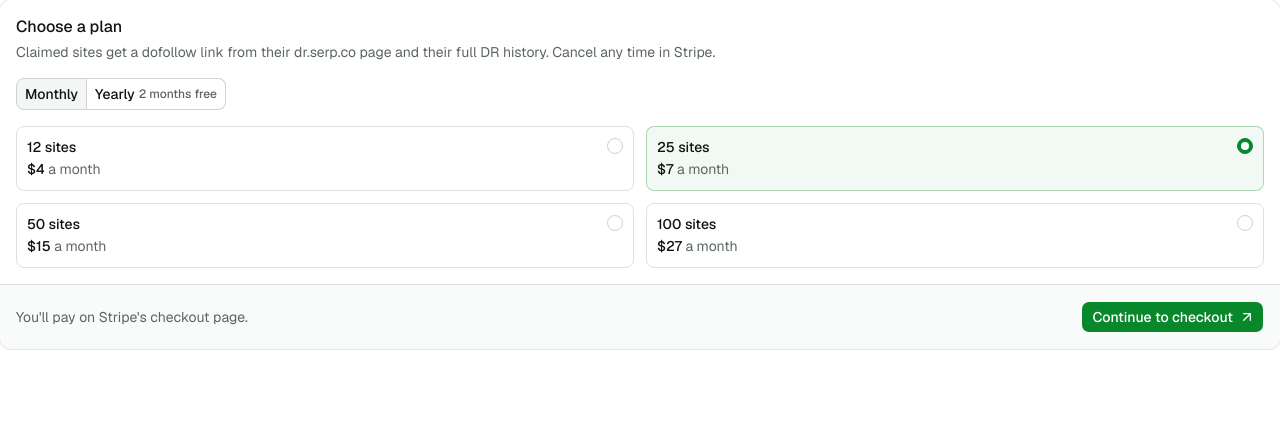
PlanChooser, no plan yet › shows the server's refusal and lets the visitor try again
The image size is (1280, 421).
Click the button "Continue to checkout": [1173, 317] box [1081,301,1264,333]
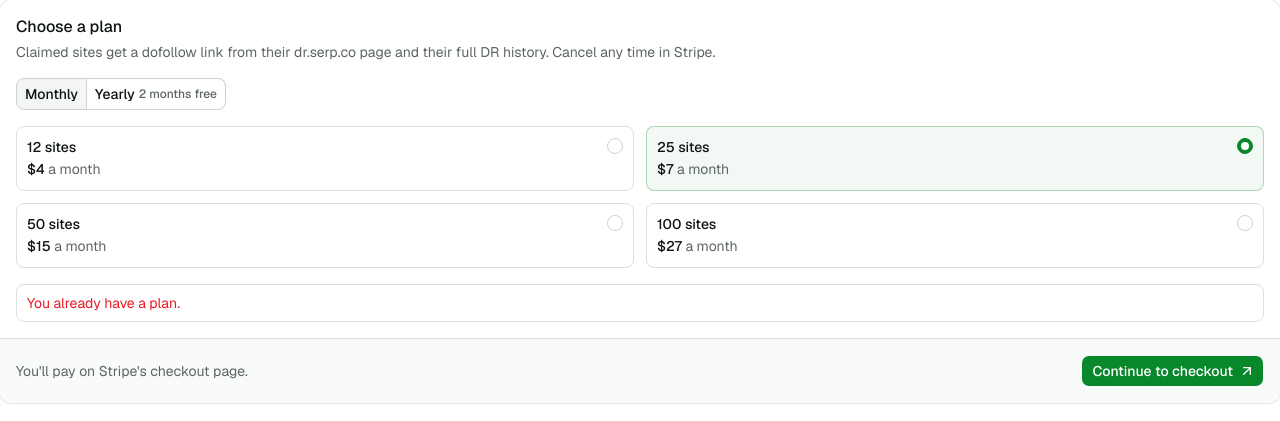
Check: the button "Continue to checkout" is enabled, box [1081,355,1264,387]
Check: the text "You already have a plan." is shown, box [27,294,180,312]
